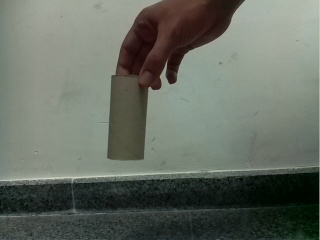rollo papel: (106, 74, 149, 161)
